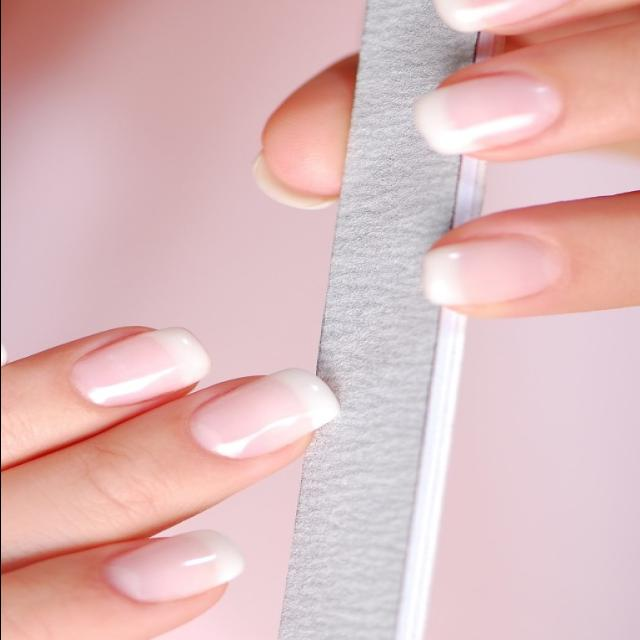Nail: (190, 369, 338, 459), (412, 74, 560, 154), (70, 328, 209, 406), (103, 530, 243, 602), (422, 238, 560, 306), (434, 0, 567, 32)
